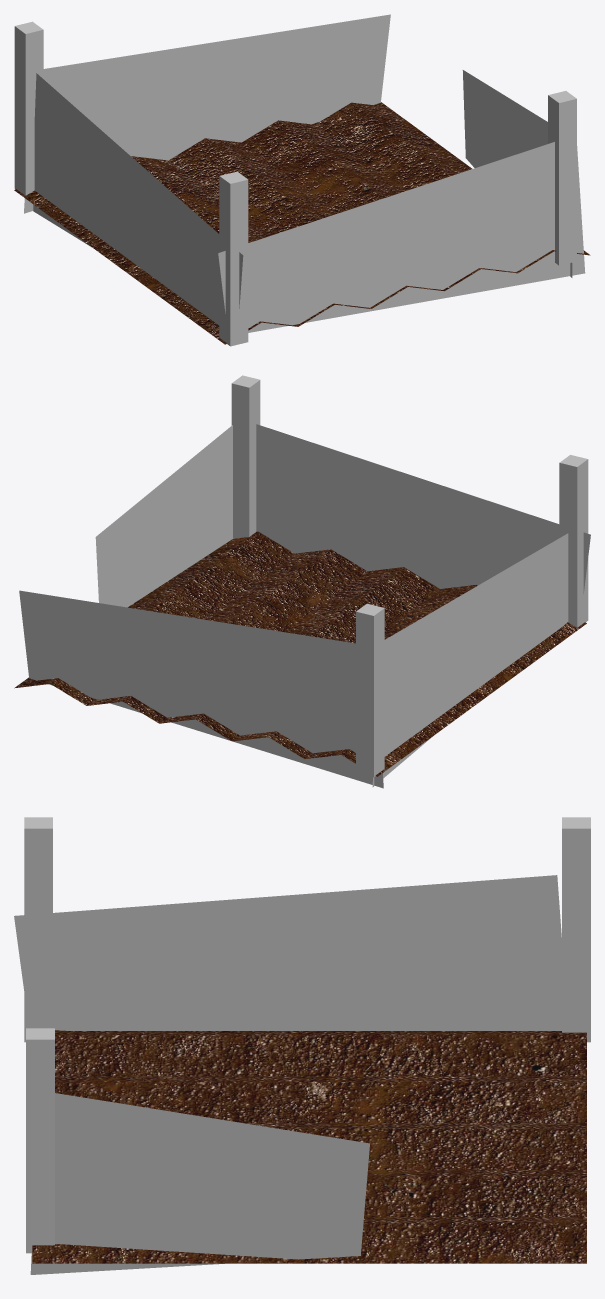
Rendered from geo_farmland.FBX.
The picture shows the model from 3 angles, top to bottom: view 1: azimuth 30°, elevation 25°; view 2: azimuth 150°, elevation 25°; view 3: azimuth 270°, elevation 25°; orthographic projection. The views are drawn at different scales.
Visible parts, largest first — view 1: Plane004, Plane002, Plane001, Plane003, Plane005, Box014, Box015, Box013; view 2: Plane002, Plane004, Plane001, Plane003, Plane005, Box013, Box015, Box014; view 3: Plane001, Plane003, Plane005, Box015, Box013, Box014.
Boxes of the visible parts, bbox=[...] form: Plane004: bbox=[218, 142, 585, 332]; Plane002: bbox=[24, 14, 390, 213]; Plane001: bbox=[14, 102, 590, 344]; Plane003: bbox=[33, 73, 243, 325]; Plane005: bbox=[462, 70, 572, 277]; Box014: bbox=[219, 171, 248, 346]; Box015: bbox=[548, 91, 576, 265]; Box013: bbox=[14, 21, 43, 195]; Plane002: bbox=[19, 590, 383, 788]; Plane004: bbox=[256, 424, 590, 593]; Plane001: bbox=[14, 531, 586, 776]; Plane003: bbox=[372, 533, 568, 787]; Plane005: bbox=[95, 425, 232, 607]; Box013: bbox=[356, 603, 384, 777]; Box015: bbox=[231, 375, 260, 538]; Box014: bbox=[559, 455, 588, 627]; Plane001: bbox=[32, 1030, 586, 1263]; Plane003: bbox=[14, 875, 561, 1030]; Plane005: bbox=[30, 1093, 369, 1274]; Box015: bbox=[26, 1028, 54, 1253]; Box013: bbox=[562, 817, 590, 1042]; Box014: bbox=[24, 817, 52, 1042].
Size of the model in its own units: 81.83 by 37.75 by 83.21.
